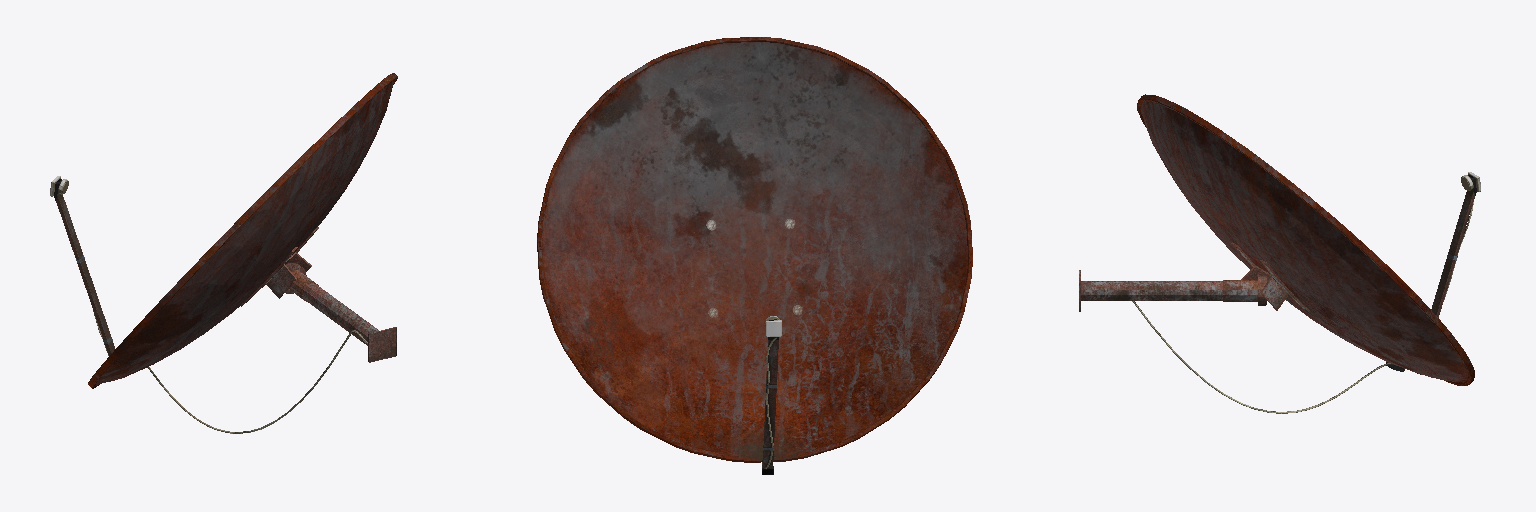
The picture shows the model from 3 angles: view 1: azimuth 30°, elevation 25°; view 2: azimuth 150°, elevation 25°; view 3: azimuth 270°, elevation 25°; orthographic projection.
Parts seen in each view (by area): view 1: defaultMaterial.001_Material.001, defaultMaterial.001_Material.002; view 2: defaultMaterial.001_Material.001; view 3: defaultMaterial.001_Material.001, defaultMaterial.001_Material.002.
Boxes of the visible parts, x1=… form: defaultMaterial.001_Material.001: x1=50, y1=73, x2=397, y2=433; defaultMaterial.001_Material.002: x1=285, y1=263, x2=396, y2=362; defaultMaterial.001_Material.001: x1=537, y1=37, x2=972, y2=474; defaultMaterial.001_Material.001: x1=1132, y1=94, x2=1480, y2=413; defaultMaterial.001_Material.002: x1=1079, y1=270, x2=1266, y2=311.
Size of the model in its own units: 5.65 by 5.48 by 5.81.
2 materials, 1 textured.